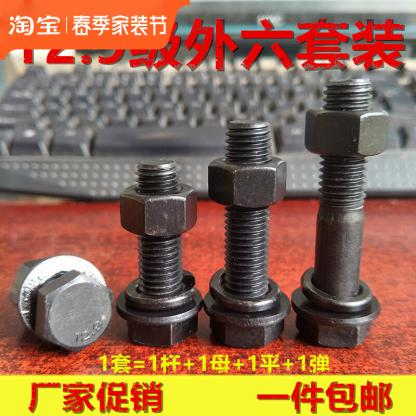FOD: (291, 72, 378, 350), (302, 104, 392, 158), (299, 259, 378, 315)
